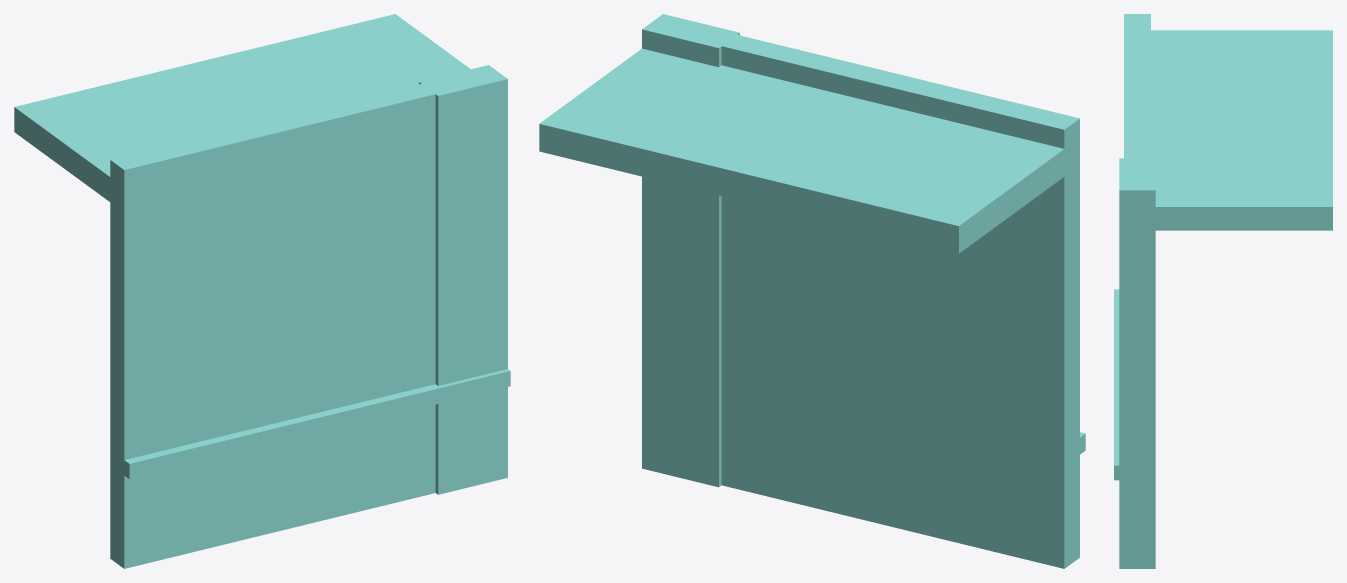
File: DinerWall_Collision.fbx
The picture shows the model from 3 angles, left to right: view 1: azimuth 30°, elevation 25°; view 2: azimuth 150°, elevation 25°; view 3: azimuth 270°, elevation 25°; orthographic projection. The views are drawn at different scales.
Parts seen in each view (by area): view 1: DinerWall_Collision; view 2: DinerWall_Collision; view 3: DinerWall_Collision.
Boxes of the visible parts, x1=… form: DinerWall_Collision: x1=14, y1=14, x2=510, y2=568; DinerWall_Collision: x1=539, y1=14, x2=1085, y2=568; DinerWall_Collision: x1=1114, y1=14, x2=1332, y2=568.
Size of the model in its own units: 3.52 by 3.52 by 1.84.
